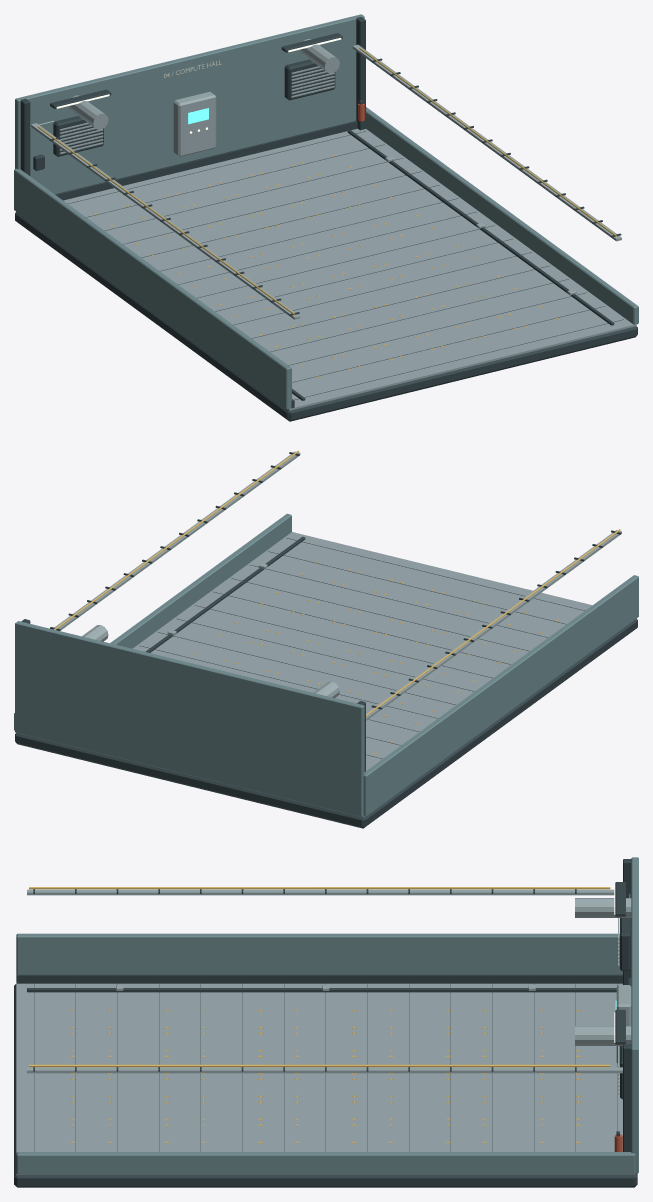
Rendered from server-hall.glb.
The picture shows the model from 3 angles, top to bottom: view 1: azimuth 30°, elevation 25°; view 2: azimuth 150°, elevation 25°; view 3: azimuth 270°, elevation 25°; orthographic projection. The views are drawn at different scales.
Parts seen in each view (by area): view 1: 01 / mineral floor, 02 / painted plaster, 03 / charcoal steel, 04 / brushed alloy, 11 / safety paint; view 2: 02 / painted plaster, 01 / mineral floor, 03 / charcoal steel, 04 / brushed alloy, 11 / safety paint; view 3: 01 / mineral floor, 02 / painted plaster, 03 / charcoal steel, 04 / brushed alloy, 11 / safety paint.
Part boxes in pixels (<box>): 01 / mineral floor: <box>63,128,636,410</box>; 02 / painted plaster: <box>14,14,638,409</box>; 03 / charcoal steel: <box>15,17,637,421</box>; 04 / brushed alloy: <box>30,39,621,319</box>; 11 / safety paint: <box>37,47,617,377</box>; 02 / painted plaster: <box>14,513,638,816</box>; 01 / mineral floor: <box>132,532,592,817</box>; 03 / charcoal steel: <box>15,452,637,828</box>; 04 / brushed alloy: <box>54,451,621,720</box>; 11 / safety paint: <box>54,450,620,754</box>; 01 / mineral floor: <box>16,982,635,1175</box>; 02 / painted plaster: <box>16,857,638,1174</box>; 03 / charcoal steel: <box>14,859,637,1187</box>; 04 / brushed alloy: <box>27,889,631,1094</box>; 11 / safety paint: <box>29,887,610,1143</box>.
Size of the model in its own units: 11.08 by 3.68 by 15.
